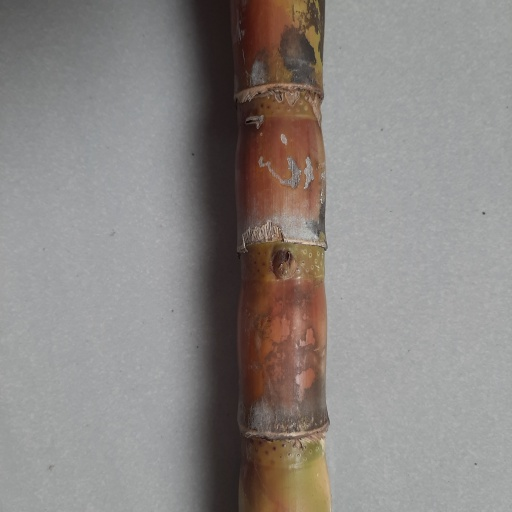Bud: (272, 249, 296, 279)
